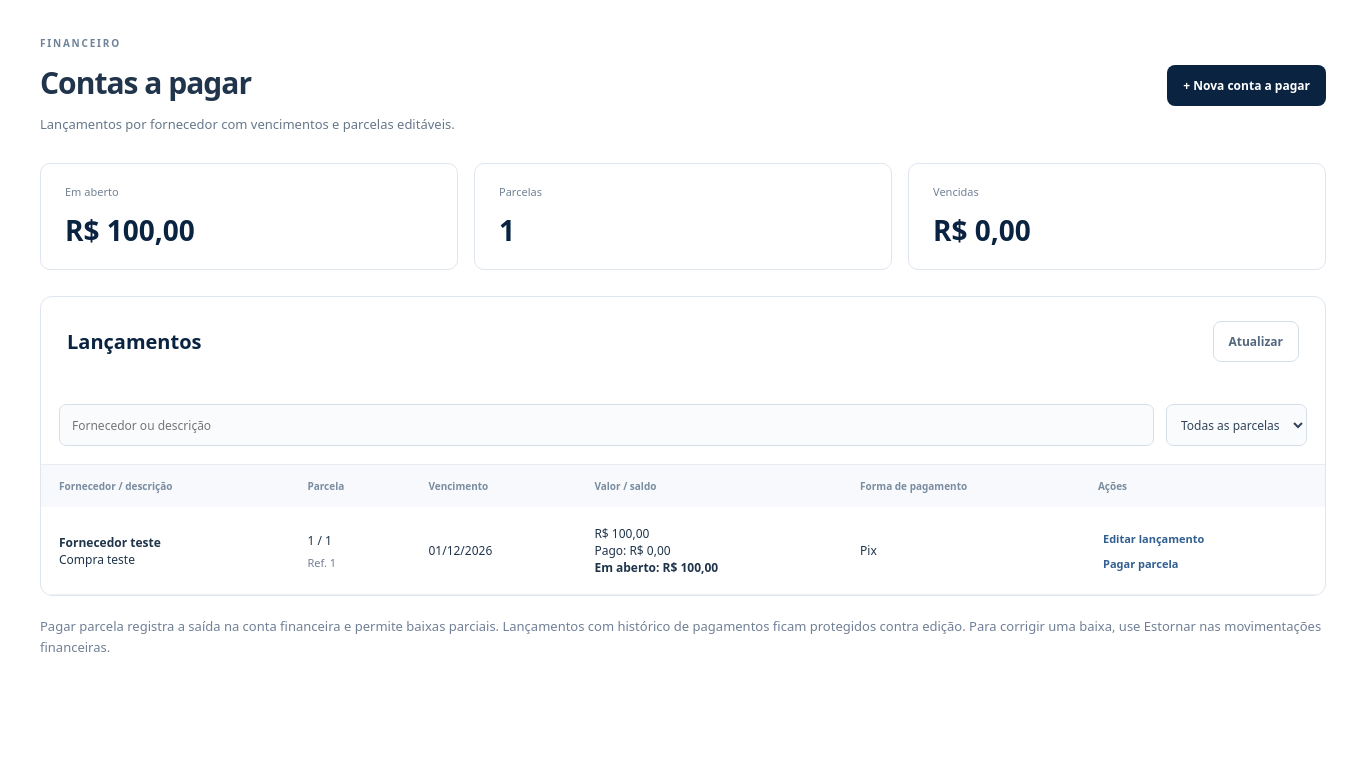
Test: records a partial payment and refreshes the remaining balance without allowing edits
Click the button "Pagar parcela" at (1141, 563), box x1=1098 y1=551 x2=1184 y2=576
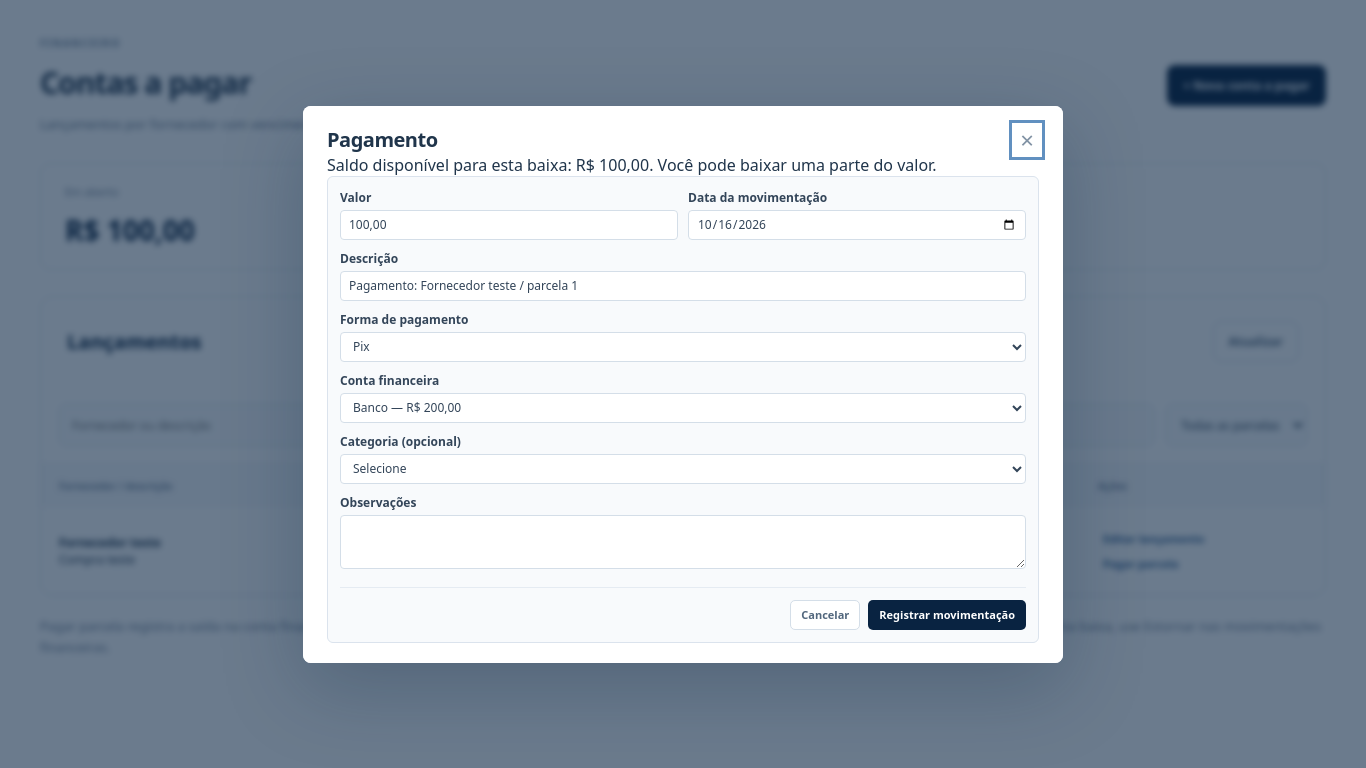
Check: the dropdown labelled "Conta financeira" shows "Banco — R$ 200,00", box x1=340 y1=392 x2=1026 y2=422
Replace the text in the field labelled "Valor" with "30,00" at (509, 224), box x1=340 y1=210 x2=678 y2=240
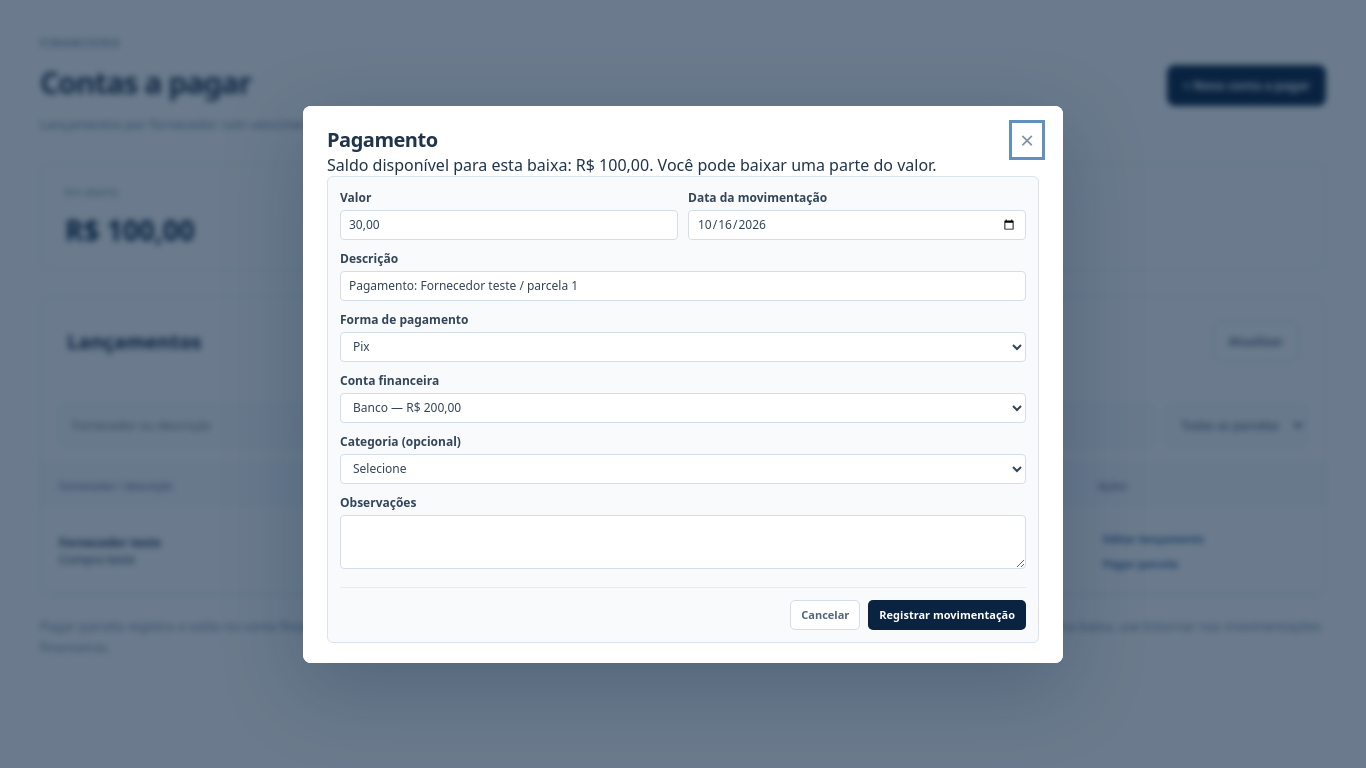
Click the button "Registrar movimentação" at (947, 614), box x1=868 y1=600 x2=1026 y2=630
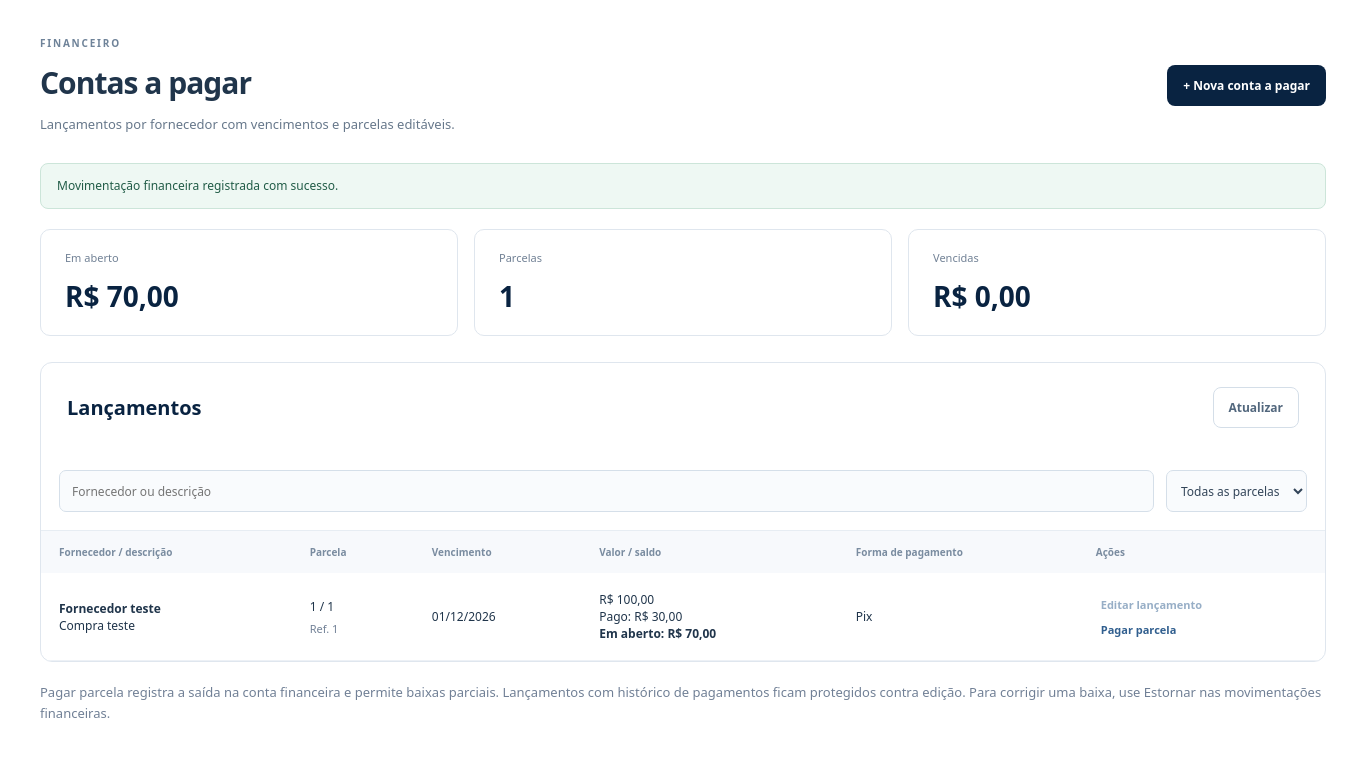
Check: the text "Em aberto: R$ 70,00" is shown, box x1=599 y1=626 x2=716 y2=642
Check: the button "Editar lançamento" is disabled, box x1=1096 y1=592 x2=1207 y2=617
